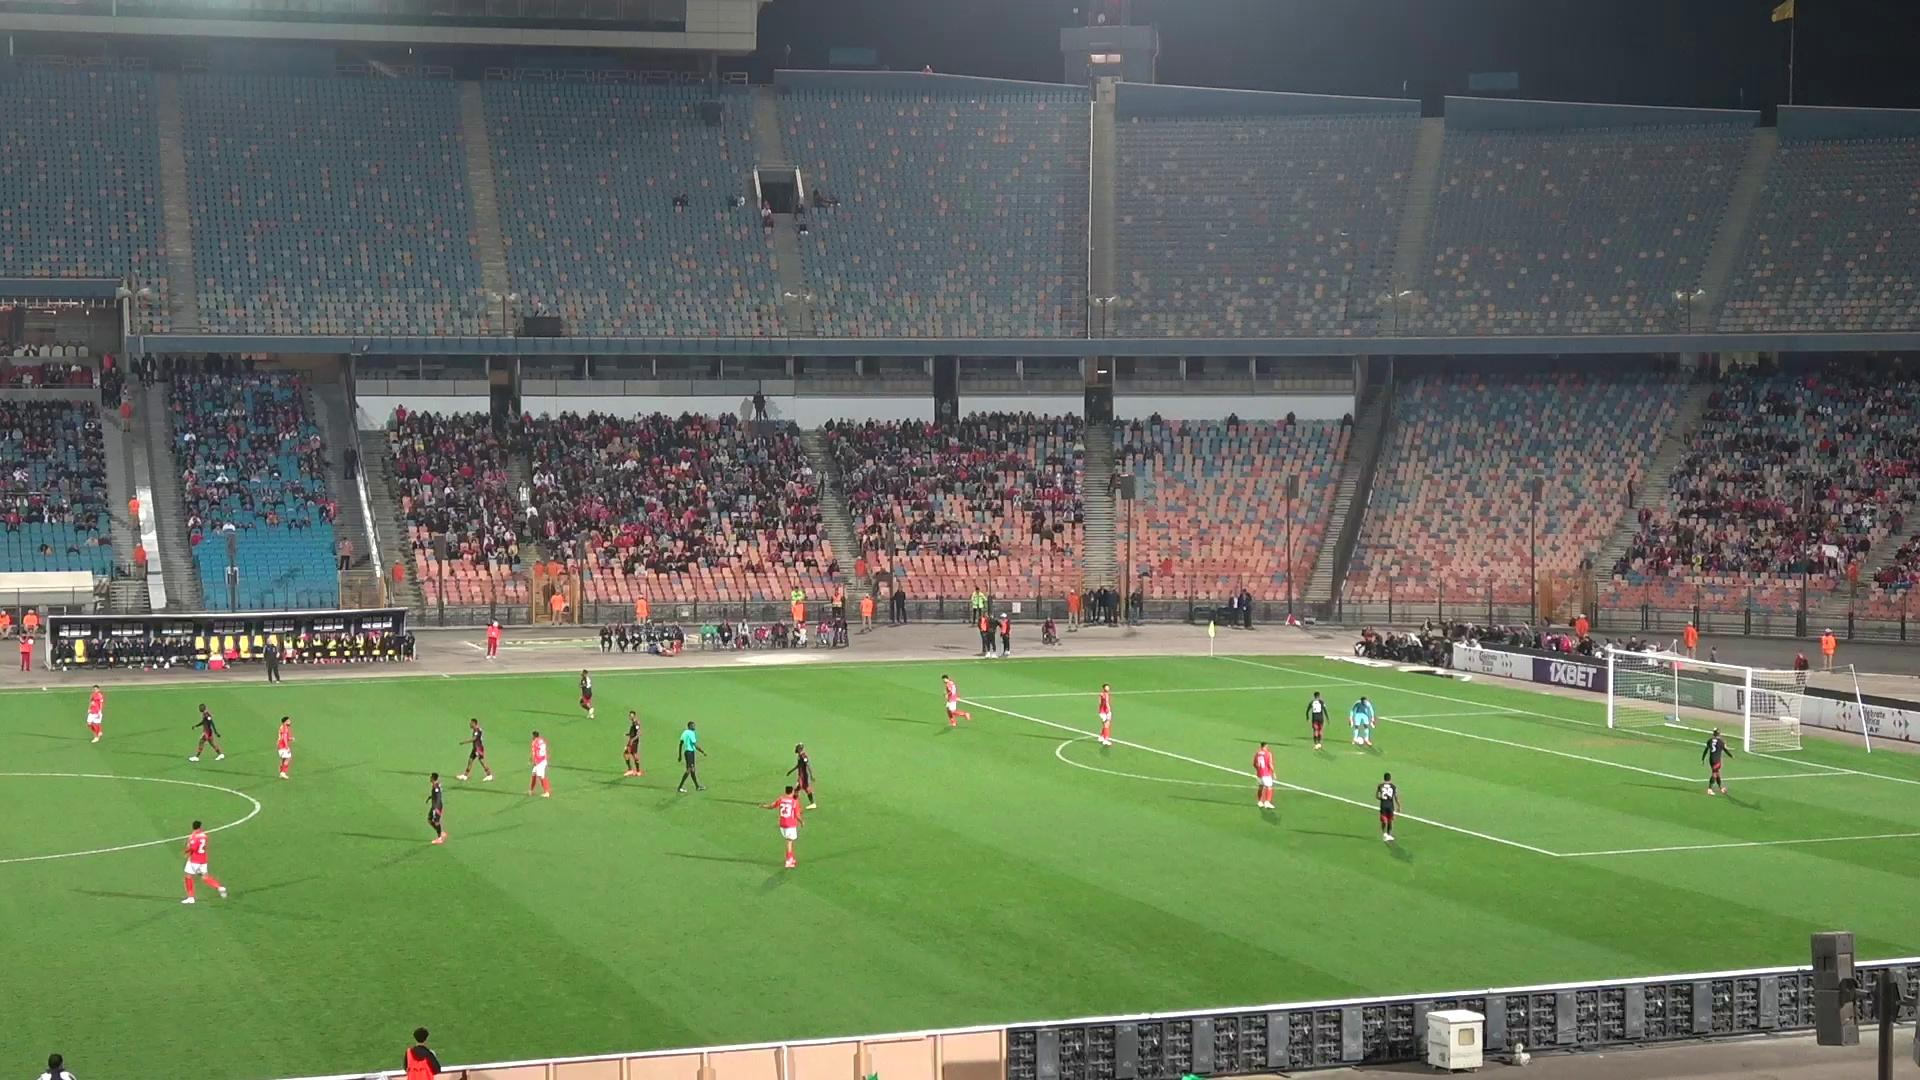Ball: (1352, 725, 1371, 749)
GK2: (1348, 695, 1375, 744)
Refree: (676, 721, 704, 790)
Team1: (182, 820, 225, 905), (764, 785, 804, 869), (1251, 742, 1279, 810), (526, 731, 551, 796), (942, 675, 971, 727), (274, 715, 295, 779), (1095, 684, 1116, 746), (84, 684, 105, 741)
Team2: (456, 717, 495, 781), (1700, 728, 1731, 795), (189, 704, 225, 761), (785, 744, 818, 807), (1375, 773, 1400, 843), (425, 789, 448, 843), (1307, 691, 1328, 752), (622, 711, 642, 775), (578, 669, 595, 719)
